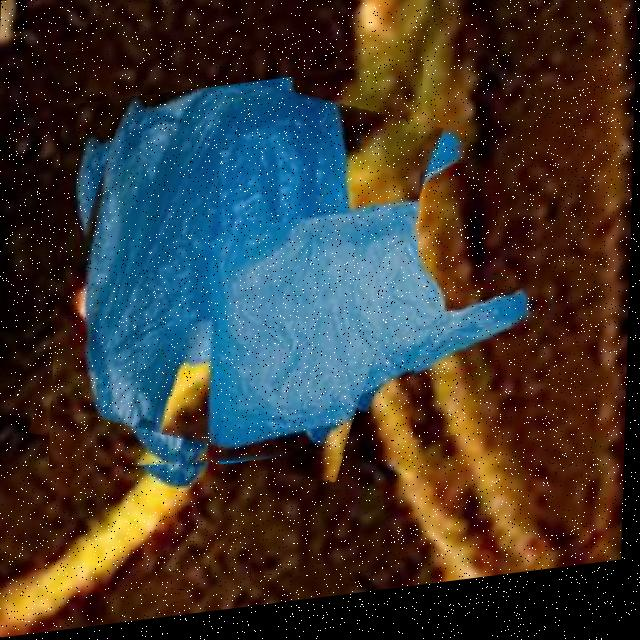plasticcover: (50, 71, 423, 500), (223, 146, 541, 470)
